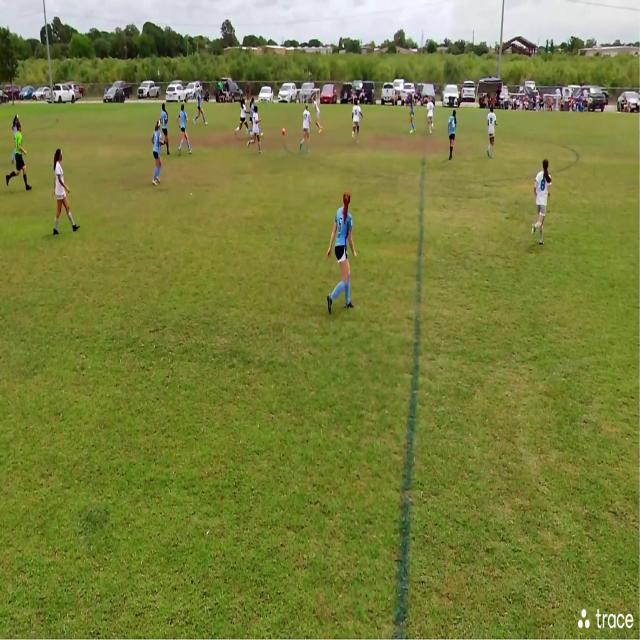ball: (281, 127, 287, 136)
team1: (329, 191, 358, 319), (152, 124, 166, 186), (178, 105, 193, 155), (448, 108, 458, 164), (162, 103, 172, 157), (195, 90, 206, 124), (409, 96, 417, 136), (249, 96, 254, 115)
team2: (52, 146, 75, 239), (534, 159, 553, 245), (486, 106, 498, 162), (301, 104, 313, 154), (252, 106, 264, 155), (238, 97, 248, 138), (354, 104, 363, 144), (314, 95, 322, 133), (427, 99, 434, 135)
